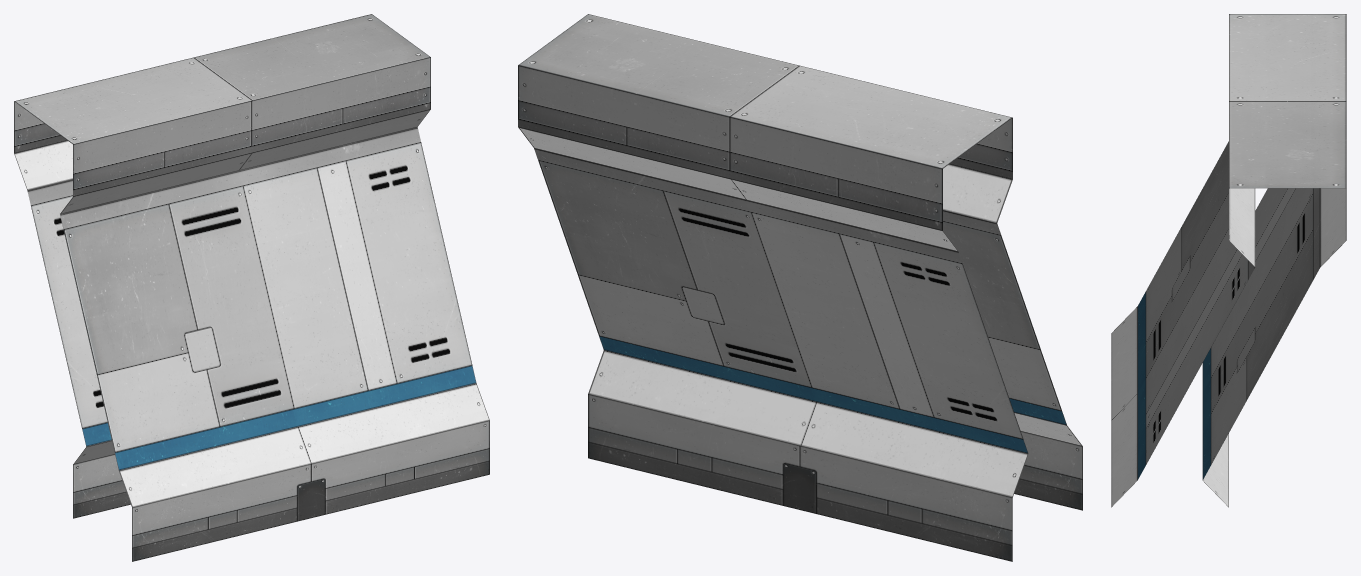
Rendered from Wall_Short_03.FBX.
3 renders of one model, left to right at view 1: azimuth 30°, elevation 25°; view 2: azimuth 150°, elevation 25°; view 3: azimuth 270°, elevation 25°, orthographic. The views are drawn at different scales.
Parts seen in each view (by area): view 1: Wall_Short_03; view 2: Wall_Short_03; view 3: Wall_Short_03.
Part boxes in pixels (x1,y1,x2,y2): Wall_Short_03: (14,14,489,561); Wall_Short_03: (518,14,1082,561); Wall_Short_03: (1111,14,1346,507).
Bounding box in the file's own units: 140 × 140 × 80.
